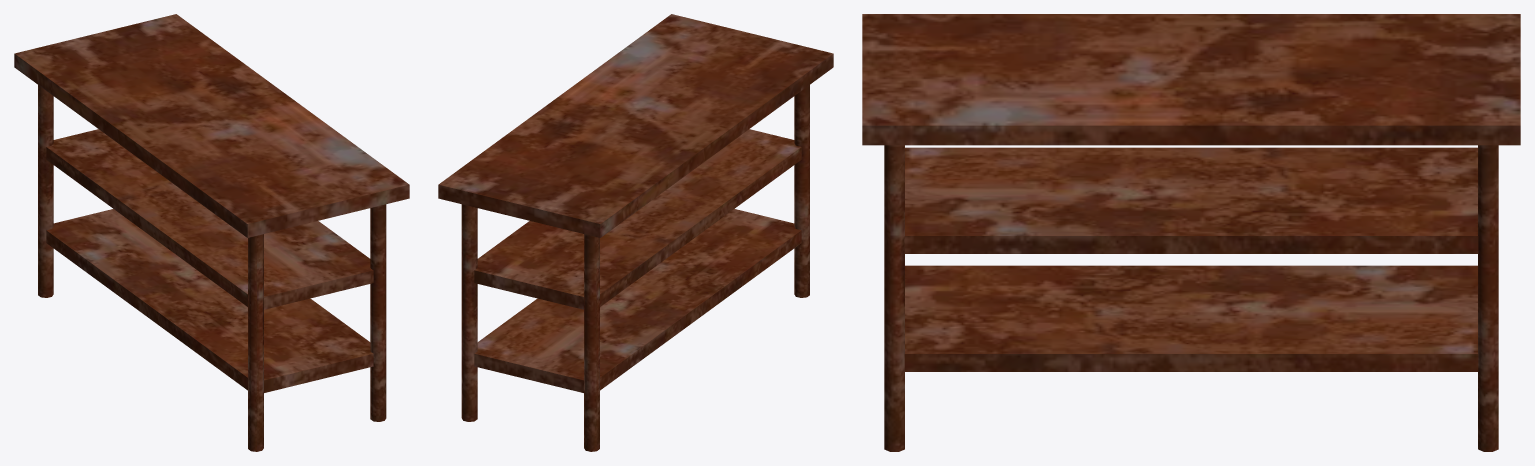
Rendered from steel-table.lod1.glb.
The picture shows the model from 3 angles, left to right: view 1: azimuth 30°, elevation 25°; view 2: azimuth 150°, elevation 25°; view 3: azimuth 270°, elevation 25°; orthographic projection. The views are drawn at different scales.
Parts seen in each view (by area): view 1: defaultMaterial; view 2: defaultMaterial; view 3: defaultMaterial.
Boxes of the visible parts, left/top/right/bottom form: defaultMaterial: left=14, top=14, right=409, bottom=451; defaultMaterial: left=438, top=14, right=833, bottom=451; defaultMaterial: left=862, top=14, right=1520, bottom=451.
Bounding box in the file's own units: 0.6406 × 0.9 × 1.6.
Materials: 1 (1 with a texture image).
